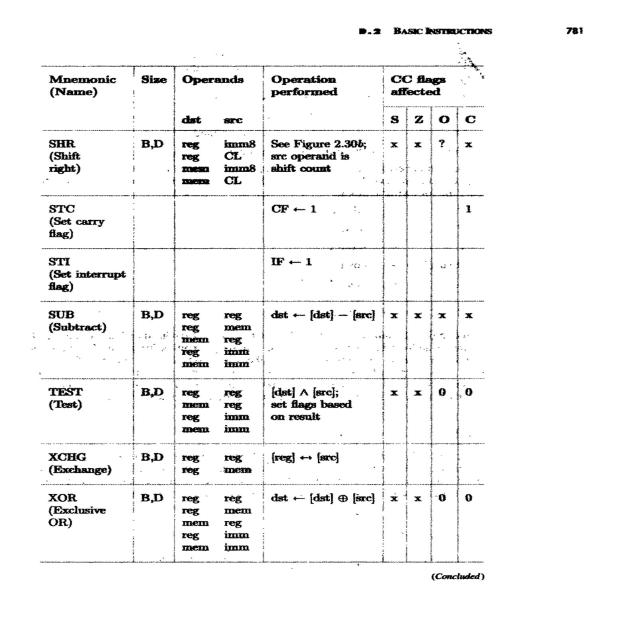diagram: (22, 47, 640, 617)
